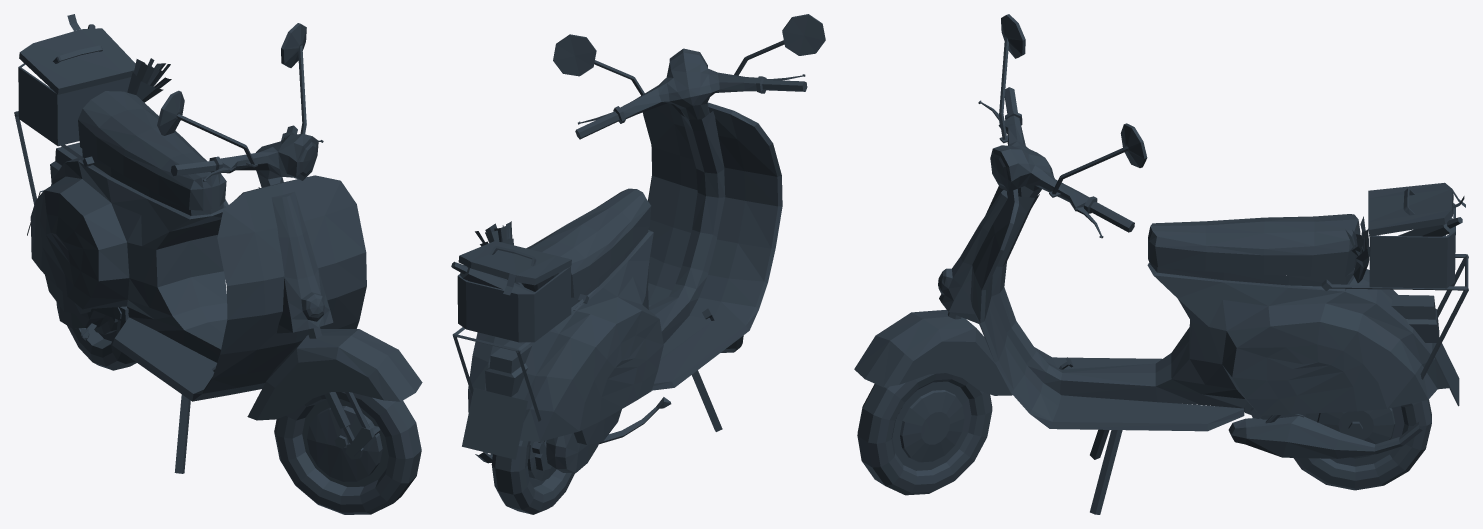
The model's file is vespo_lod.glb.
The picture shows the model from 3 angles, left to right: view 1: azimuth 30°, elevation 25°; view 2: azimuth 150°, elevation 25°; view 3: azimuth 270°, elevation 25°; orthographic projection. The views are drawn at different scales.
Visible parts, largest first — view 1: Object_4; view 2: Object_4; view 3: Object_4.
Part boxes in pixels (x1,y1,x2,y2): Object_4: [14, 14, 422, 514]; Object_4: [451, 14, 825, 514]; Object_4: [854, 14, 1468, 514].
Size of the model in its own units: 0.7534 by 1.39 by 1.85.
